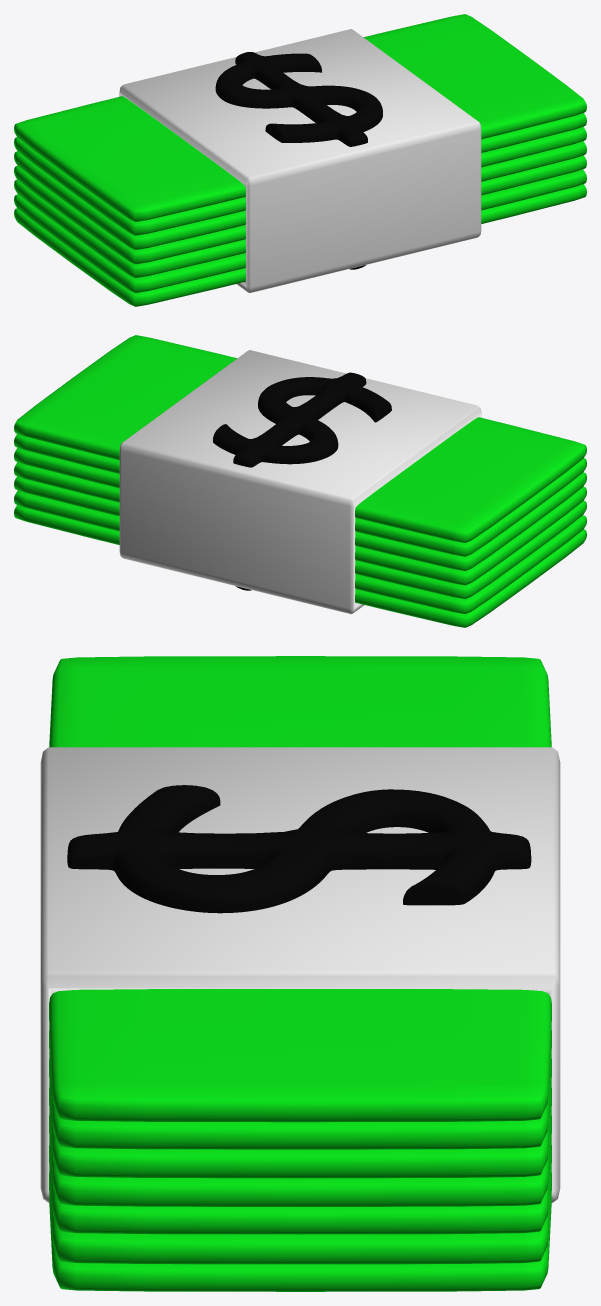
File: cash.fbx
The picture shows the model from 3 angles, top to bottom: view 1: azimuth 30°, elevation 25°; view 2: azimuth 150°, elevation 25°; view 3: azimuth 270°, elevation 25°; orthographic projection. The views are drawn at different scales.
Visible parts, largest first — view 1: cash; view 2: cash; view 3: cash.
Part boxes in pixels (x1=…): cash: x1=14, y1=14, x2=586, y2=306; cash: x1=14, y1=335, x2=586, y2=627; cash: x1=40, y1=656, x2=560, y2=1291.
Size of the model in its own units: 53.69 by 15.49 by 26.25.
